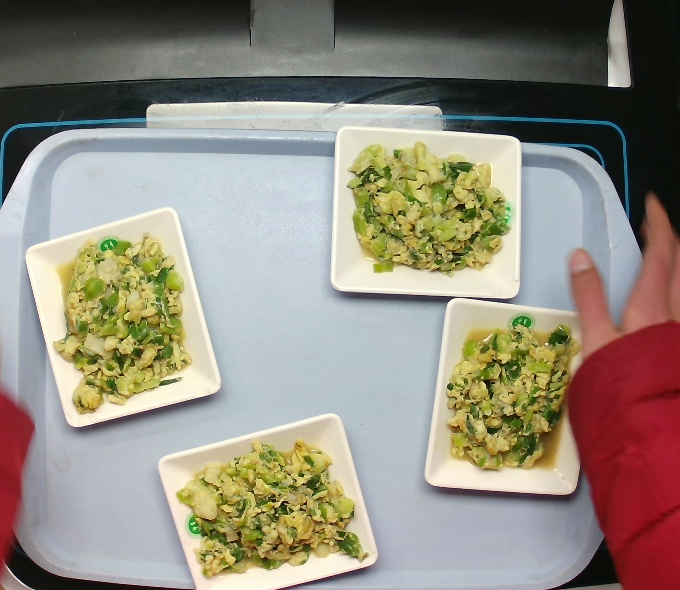wcq-SuanMiaoChaoDan: (37, 231, 209, 428), (171, 430, 377, 590), (336, 127, 518, 276), (431, 314, 587, 478)
